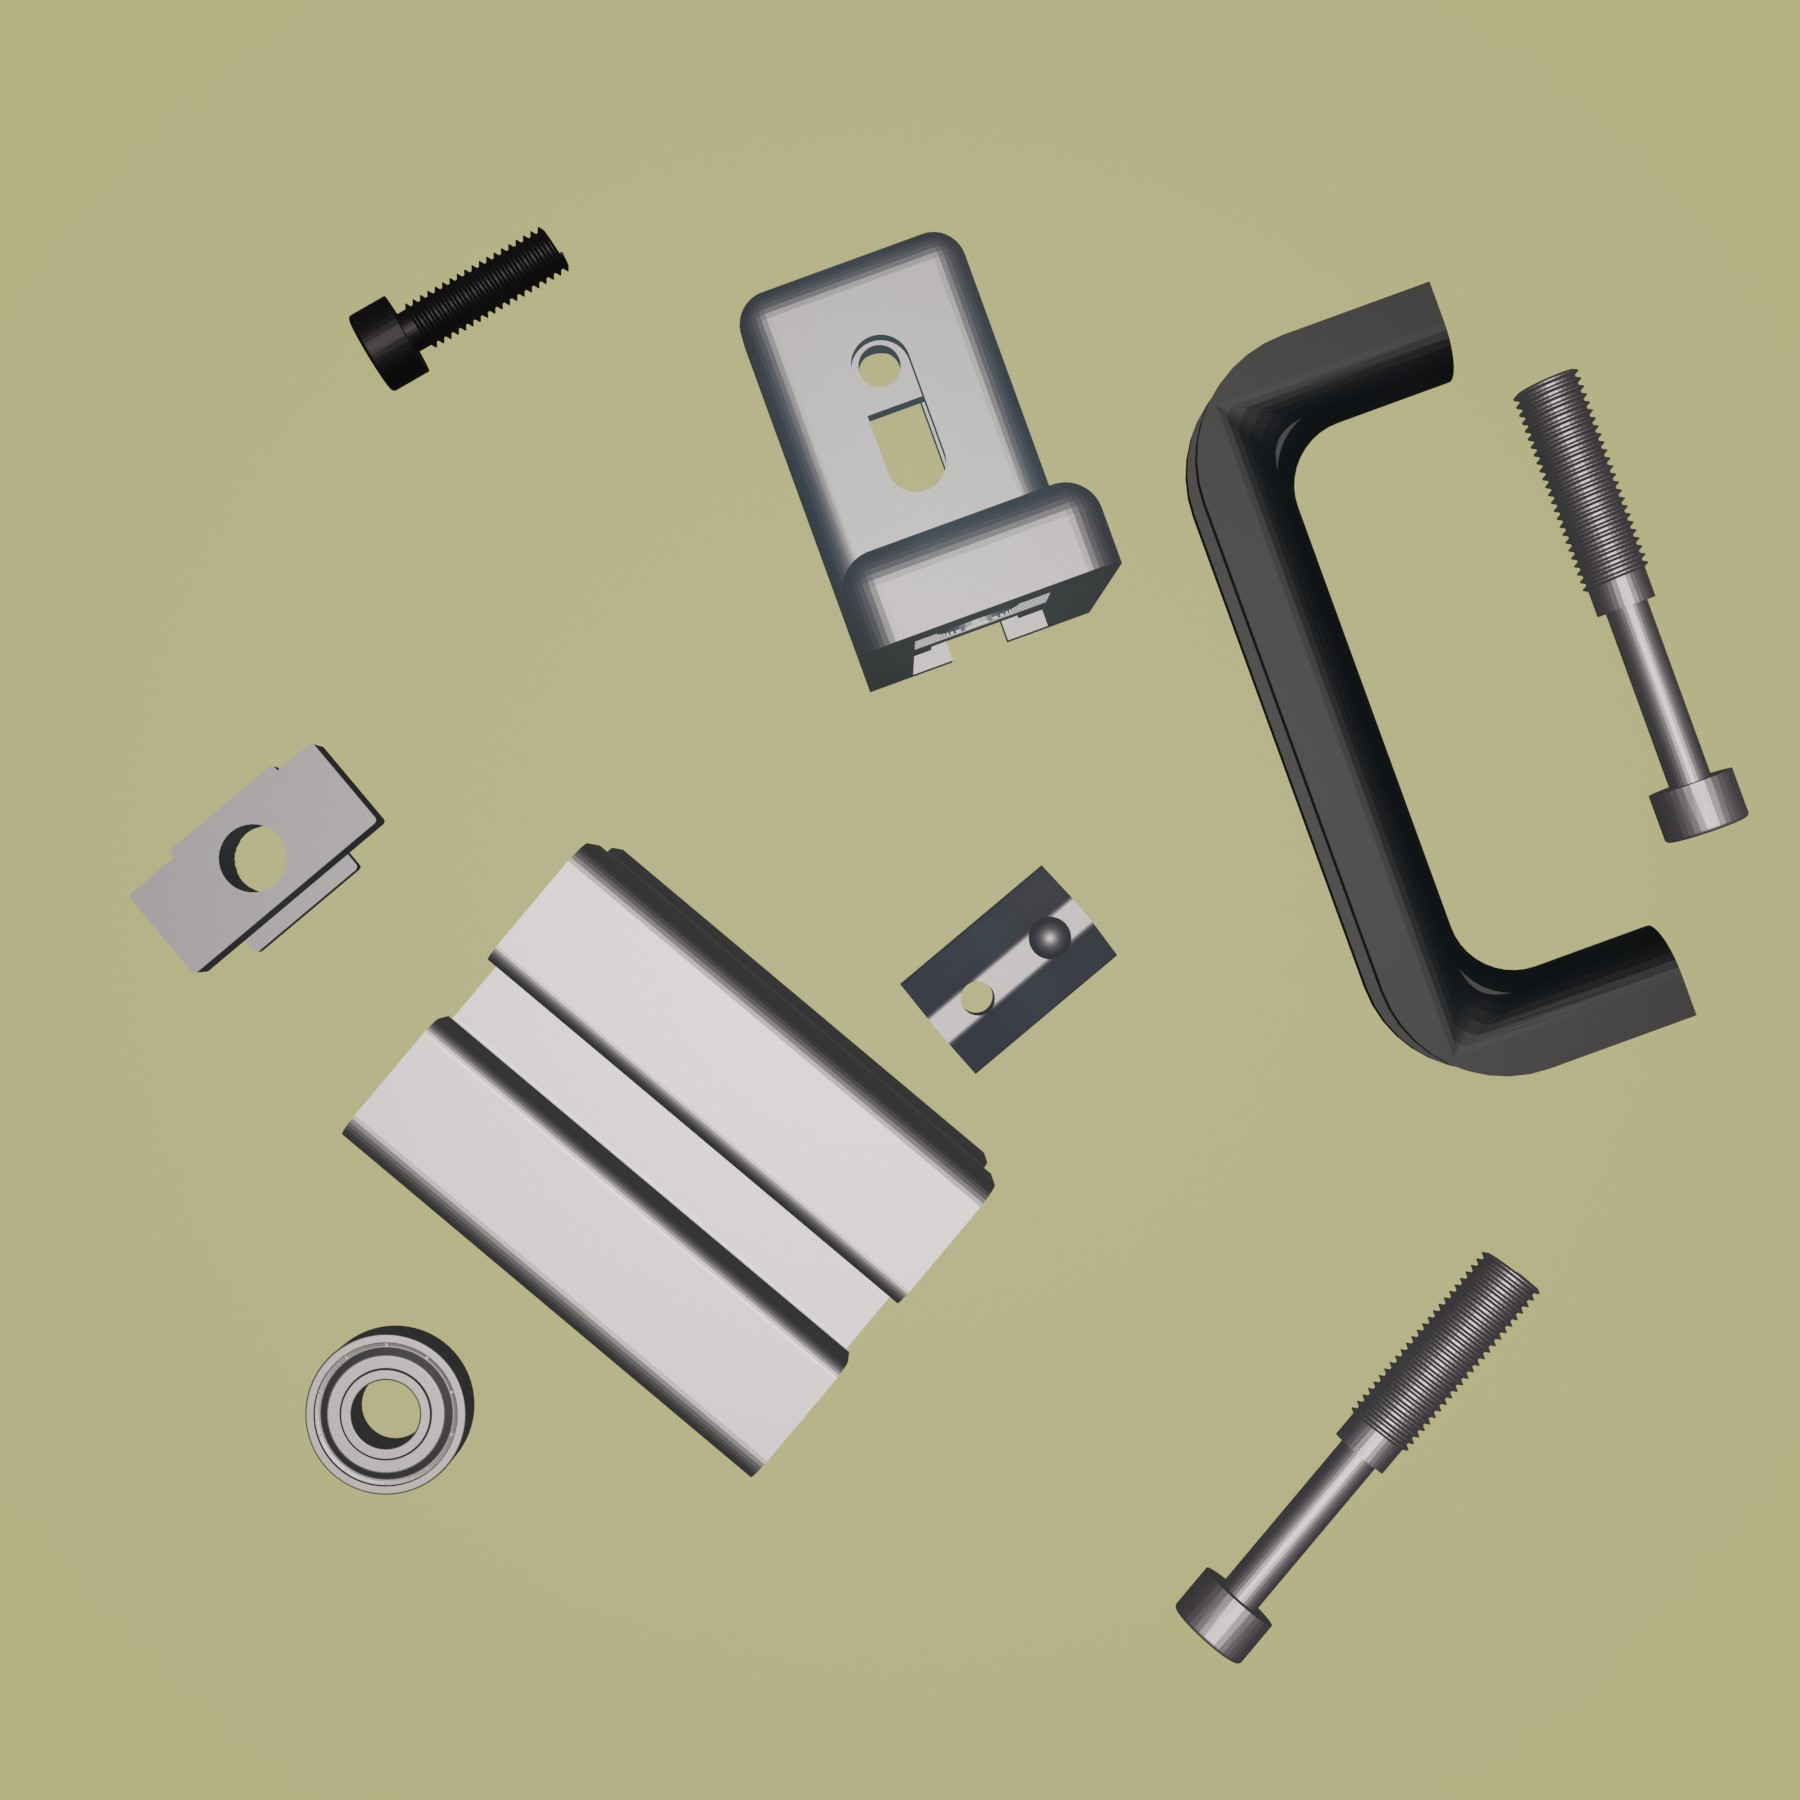Aluminium Extension: (340, 839, 996, 1487)
Ball Bearing: (302, 1324, 476, 1497)
Multiwinkel: (734, 231, 1123, 696)
Pull Handle: (1182, 274, 1699, 1078)
Shoulder Socket Head Cap Screw: (1174, 1249, 1540, 1666), (1508, 364, 1751, 847)
Socket Head Cap Screw: (346, 223, 574, 396)
T Nut Square: (129, 738, 389, 977)
T Spring Nut: (897, 860, 1119, 1075)
